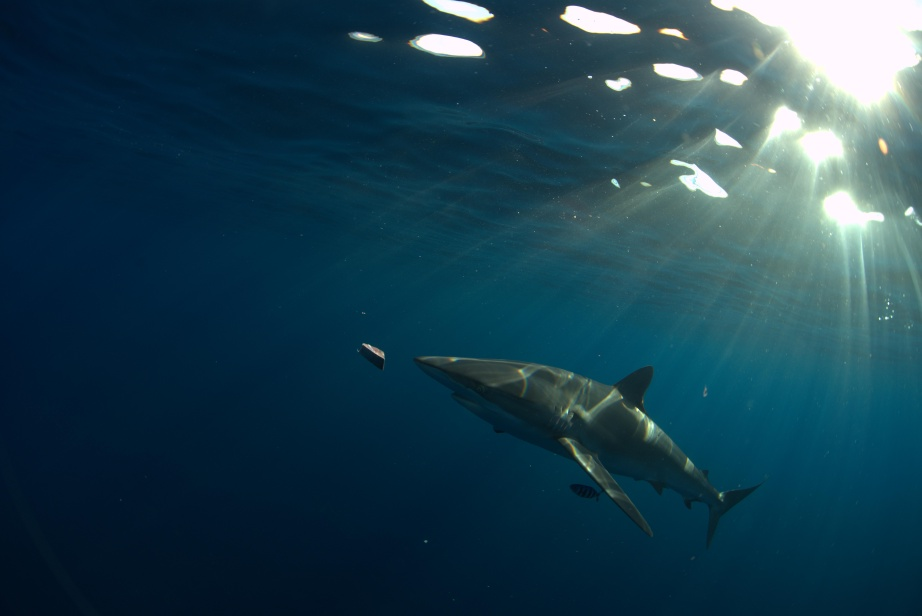Sedoso: (400, 337, 779, 568)
